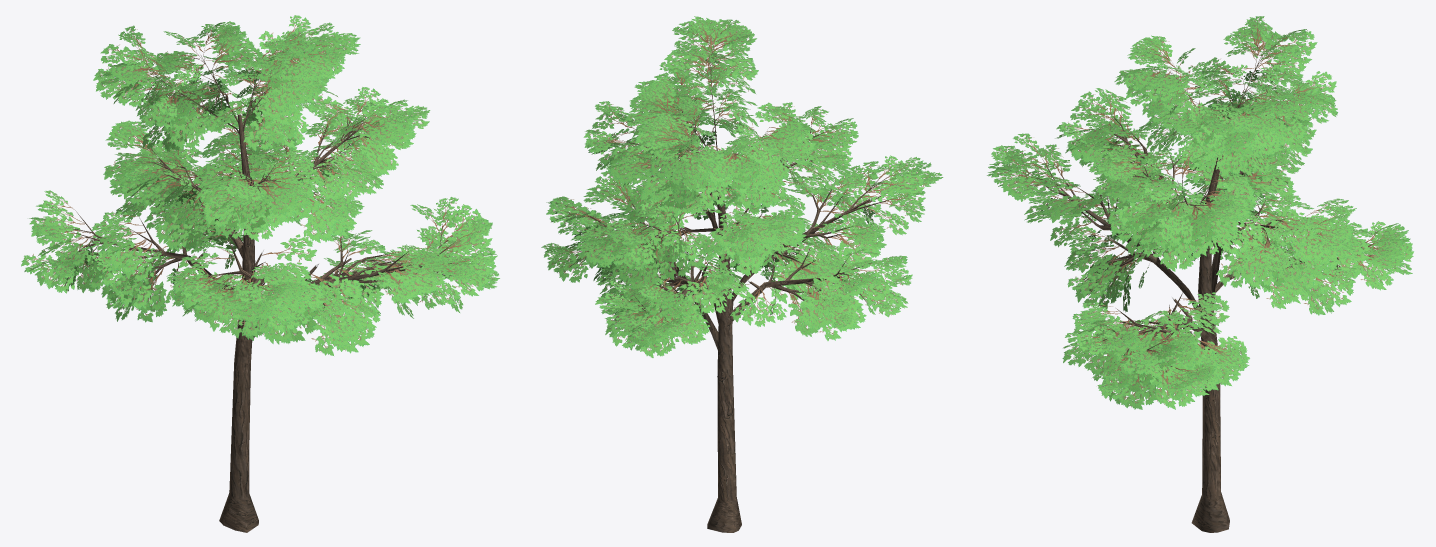
The model's file is big-2-.fbx.
The picture shows the model from 3 angles, left to right: view 1: azimuth 30°, elevation 25°; view 2: azimuth 150°, elevation 25°; view 3: azimuth 270°, elevation 25°; orthographic projection. The views are drawn at different scales.
Visible parts, largest first — view 1: big_2_; view 2: big_2_; view 3: big_2_.
Boxes of the visible parts, x1,y1,x2,y2 form: big_2_: (21, 15, 499, 532); big_2_: (541, 16, 943, 532); big_2_: (987, 16, 1413, 532).
Size of the model in its own units: 773 by 858 by 698.
Materials: 3 (2 with a texture image).
